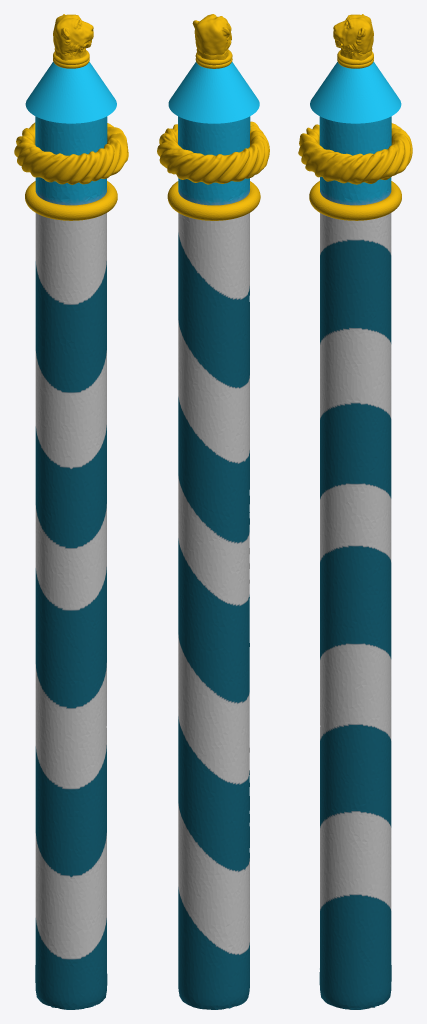
Rendered from VEN_Stock_01_LOD1.glb.
3 renders of one model, left to right at view 1: azimuth 90°, elevation 25°; view 2: azimuth 150°, elevation 25°; view 3: azimuth 270°, elevation 25°, orthographic.
Visible parts, largest first — view 1: Cylinder, Cone, Torus 1, Torus, Leone; view 2: Cylinder, Cone, Torus 1, Torus, Leone; view 3: Cylinder, Cone, Torus 1, Torus, Leone.
Boxes of the visible parts, box(x1,y1,x2,y2) form: Cylinder: box(35, 116, 107, 1009); Cone: box(25, 62, 116, 123); Torus 1: box(14, 122, 128, 184); Torus: box(25, 181, 117, 220); Leone: box(53, 14, 93, 60); Cylinder: box(178, 116, 250, 1009); Cone: box(168, 62, 259, 123); Torus 1: box(157, 121, 269, 184); Torus: box(167, 181, 260, 220); Leone: box(192, 14, 231, 59); Cylinder: box(319, 116, 391, 1009); Cone: box(310, 61, 401, 123); Torus 1: box(298, 123, 412, 184); Torus: box(309, 181, 401, 220); Leone: box(333, 14, 373, 60).
Bounding box in the file's own units: 0.5082 × 4.86 × 0.5146.
